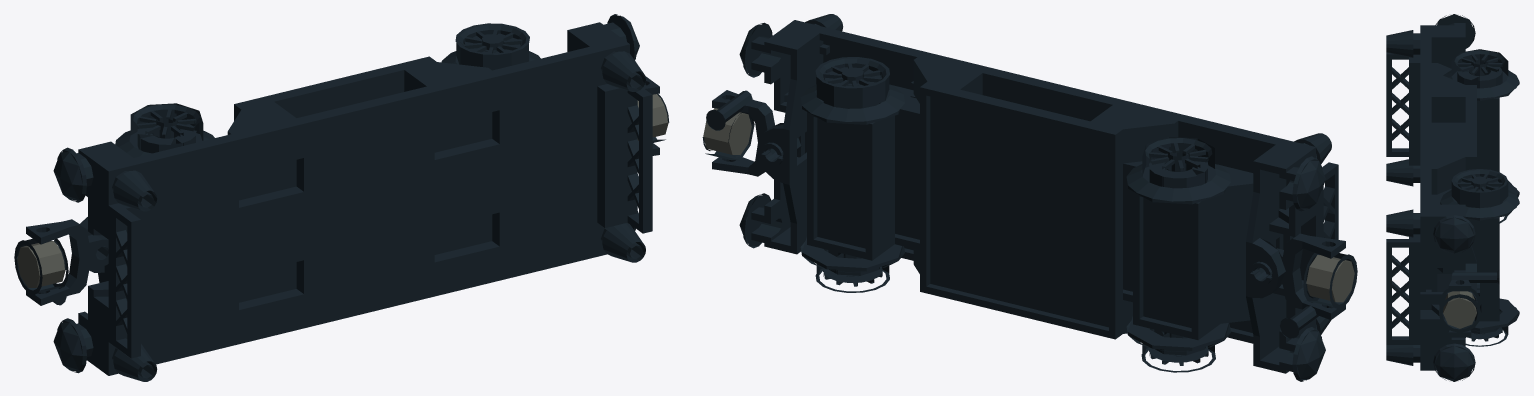
The model's file is car-transport-depot.glb.
3 renders of one model, left to right at view 1: azimuth 30°, elevation 25°; view 2: azimuth 150°, elevation 25°; view 3: azimuth 270°, elevation 25°, orthographic. The views are drawn at different scales.
Bounding box in the file's own units: 154 × 52 × 37.6.
